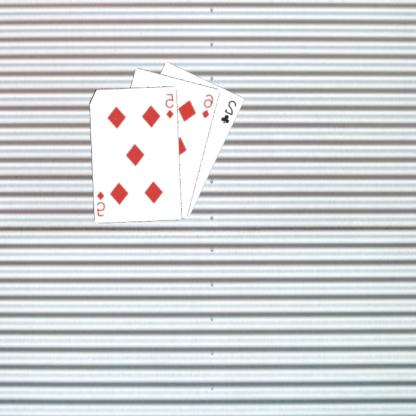2C: (220, 98, 240, 124)
5D: (164, 90, 177, 119), (96, 188, 108, 218)
6D: (201, 91, 216, 119)
